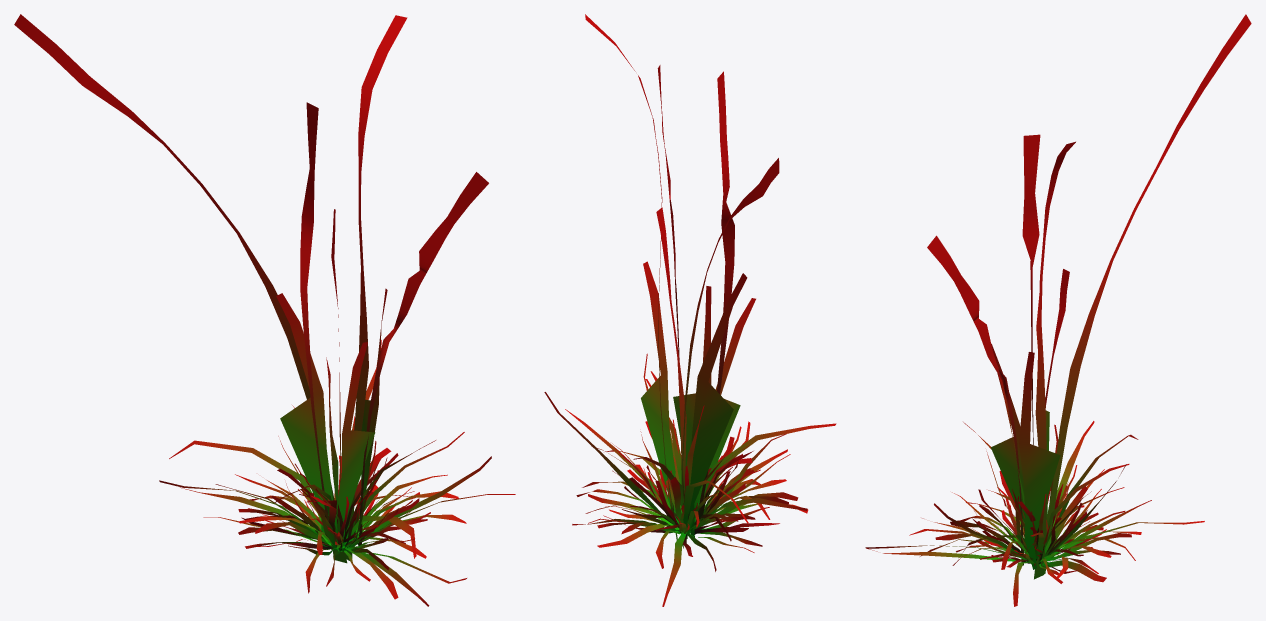
File: rbEkI_Var1_LOD0.fbx
3 renders of one model, left to right at view 1: azimuth 30°, elevation 25°; view 2: azimuth 150°, elevation 25°; view 3: azimuth 270°, elevation 25°, orthographic. The views are drawn at different scales.
Parts seen in each view (by area): view 1: _9401_Var1_LOD0; view 2: _9401_Var1_LOD0; view 3: _9401_Var1_LOD0.
Boxes of the visible parts, <box> form: _9401_Var1_LOD0: <box>14,14,515,606</box>; _9401_Var1_LOD0: <box>544,14,836,606</box>; _9401_Var1_LOD0: <box>865,14,1251,606</box>.
Bounding box in the file's own units: 60.48 × 90.28 × 67.19.
